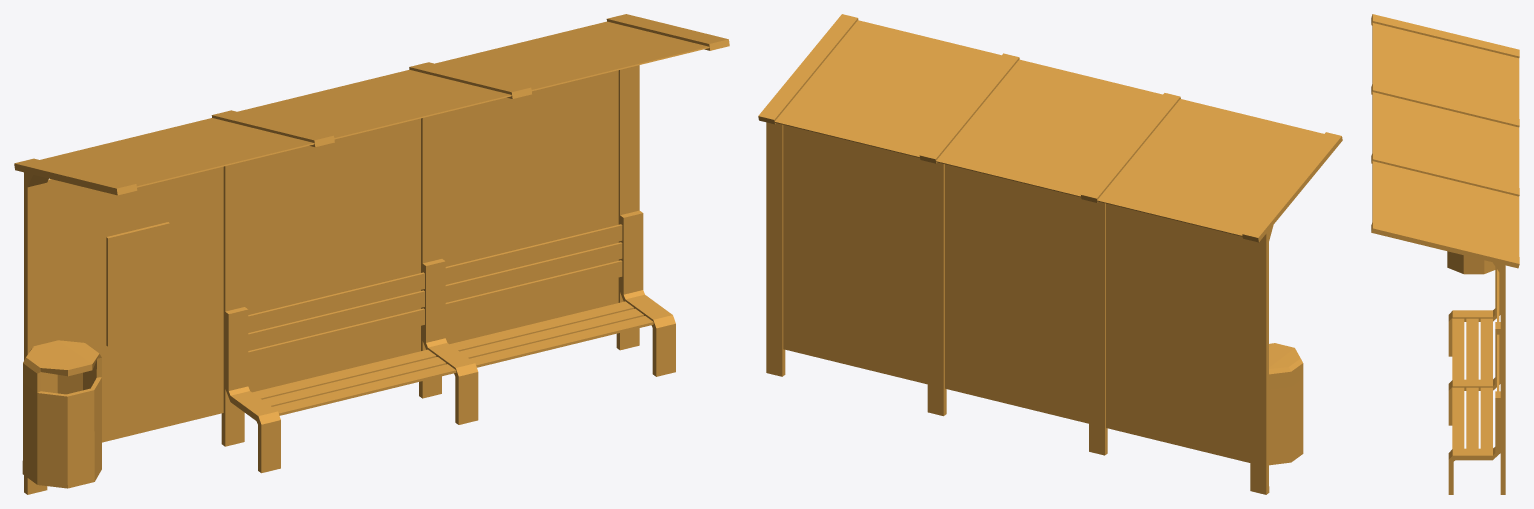
Rendered from bus-stop.fbx.
The picture shows the model from 3 angles, left to right: view 1: azimuth 30°, elevation 25°; view 2: azimuth 150°, elevation 25°; view 3: azimuth 270°, elevation 25°; orthographic projection. The views are drawn at different scales.
Visible parts, largest first — view 1: bus-stop; view 2: bus-stop; view 3: bus-stop.
Part boxes in pixels (x1,y1,x2,y2): bus-stop: [14, 14, 729, 494]; bus-stop: [758, 14, 1342, 494]; bus-stop: [1371, 14, 1519, 494].
Bounding box in the file's own units: 5.13 × 2.9 × 1.46.
